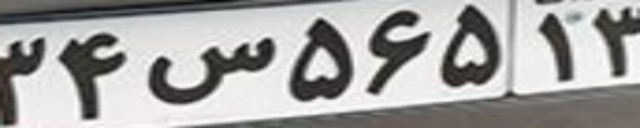1: (535, 11, 576, 82)
3: (1, 35, 49, 125), (589, 2, 639, 78)
4: (56, 31, 128, 120)
5: (288, 16, 352, 101), (439, 3, 502, 89)
6: (365, 9, 430, 98)
sin: (145, 36, 277, 104)
